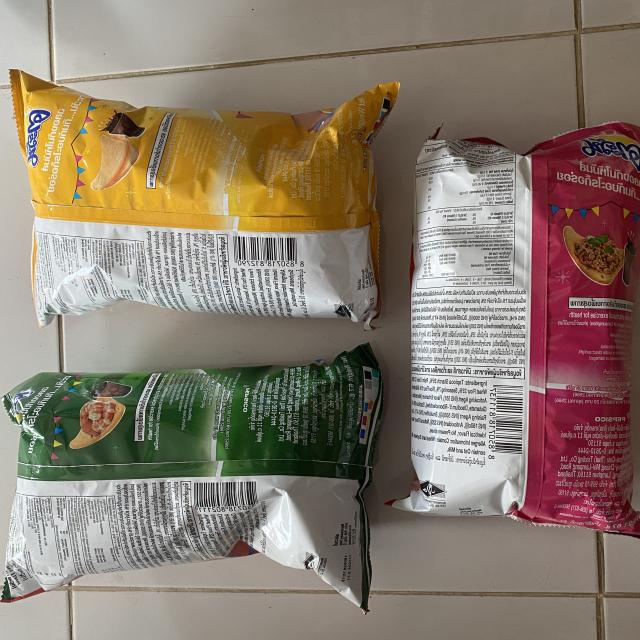plastik: (392, 122, 640, 537), (3, 343, 384, 608), (11, 70, 399, 328)
